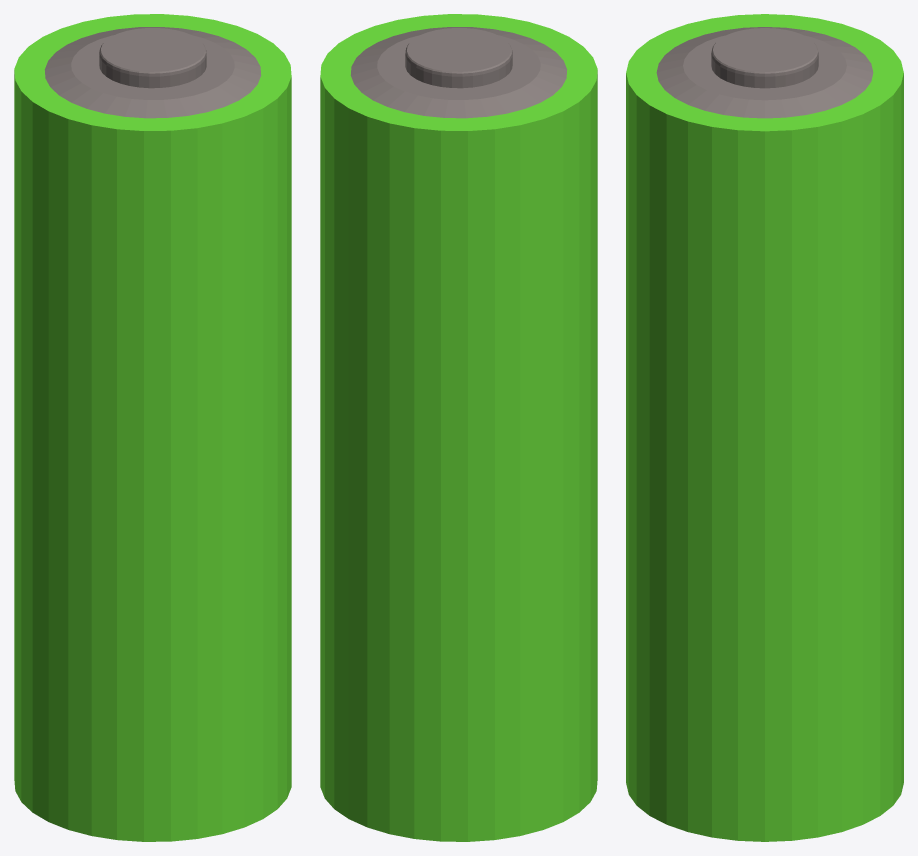
Rendered from pil.fbx.
3 renders of one model, left to right at view 1: azimuth 30°, elevation 25°; view 2: azimuth 150°, elevation 25°; view 3: azimuth 270°, elevation 25°, orthographic.
Parts seen in each view (by area): view 1: pil; view 2: pil; view 3: pil.
Part boxes in pixels (x1=…): pil: x1=14, y1=14, x2=291, y2=841; pil: x1=320, y1=14, x2=597, y2=841; pil: x1=626, y1=14, x2=903, y2=841.
Size of the model in its own units: 103 by 303 by 103.
